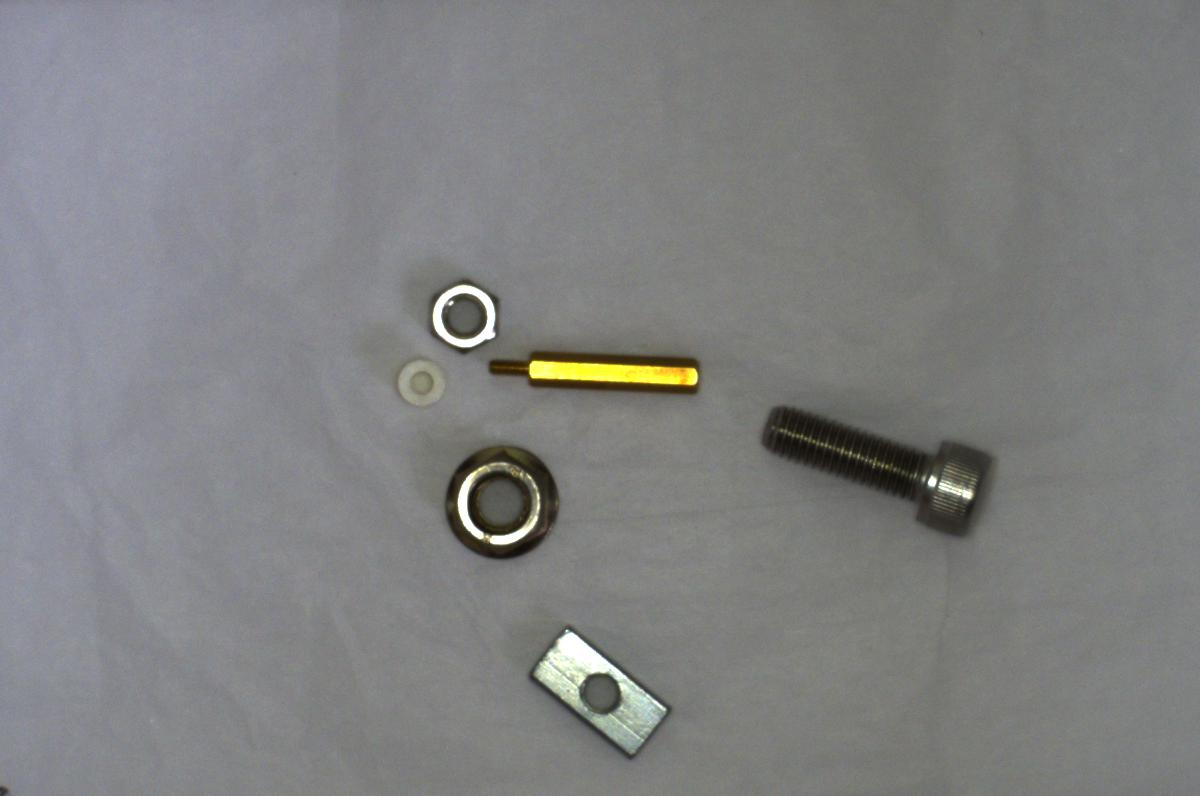Flange nut: (430, 438, 575, 562)
Hexagon nut: (424, 270, 502, 360)
Hexagon pillar: (480, 346, 711, 403)
Hexagon screw: (753, 403, 1000, 536)
Plastic cushion pillar: (390, 353, 455, 408)
Rectangular nut: (525, 625, 674, 760)
